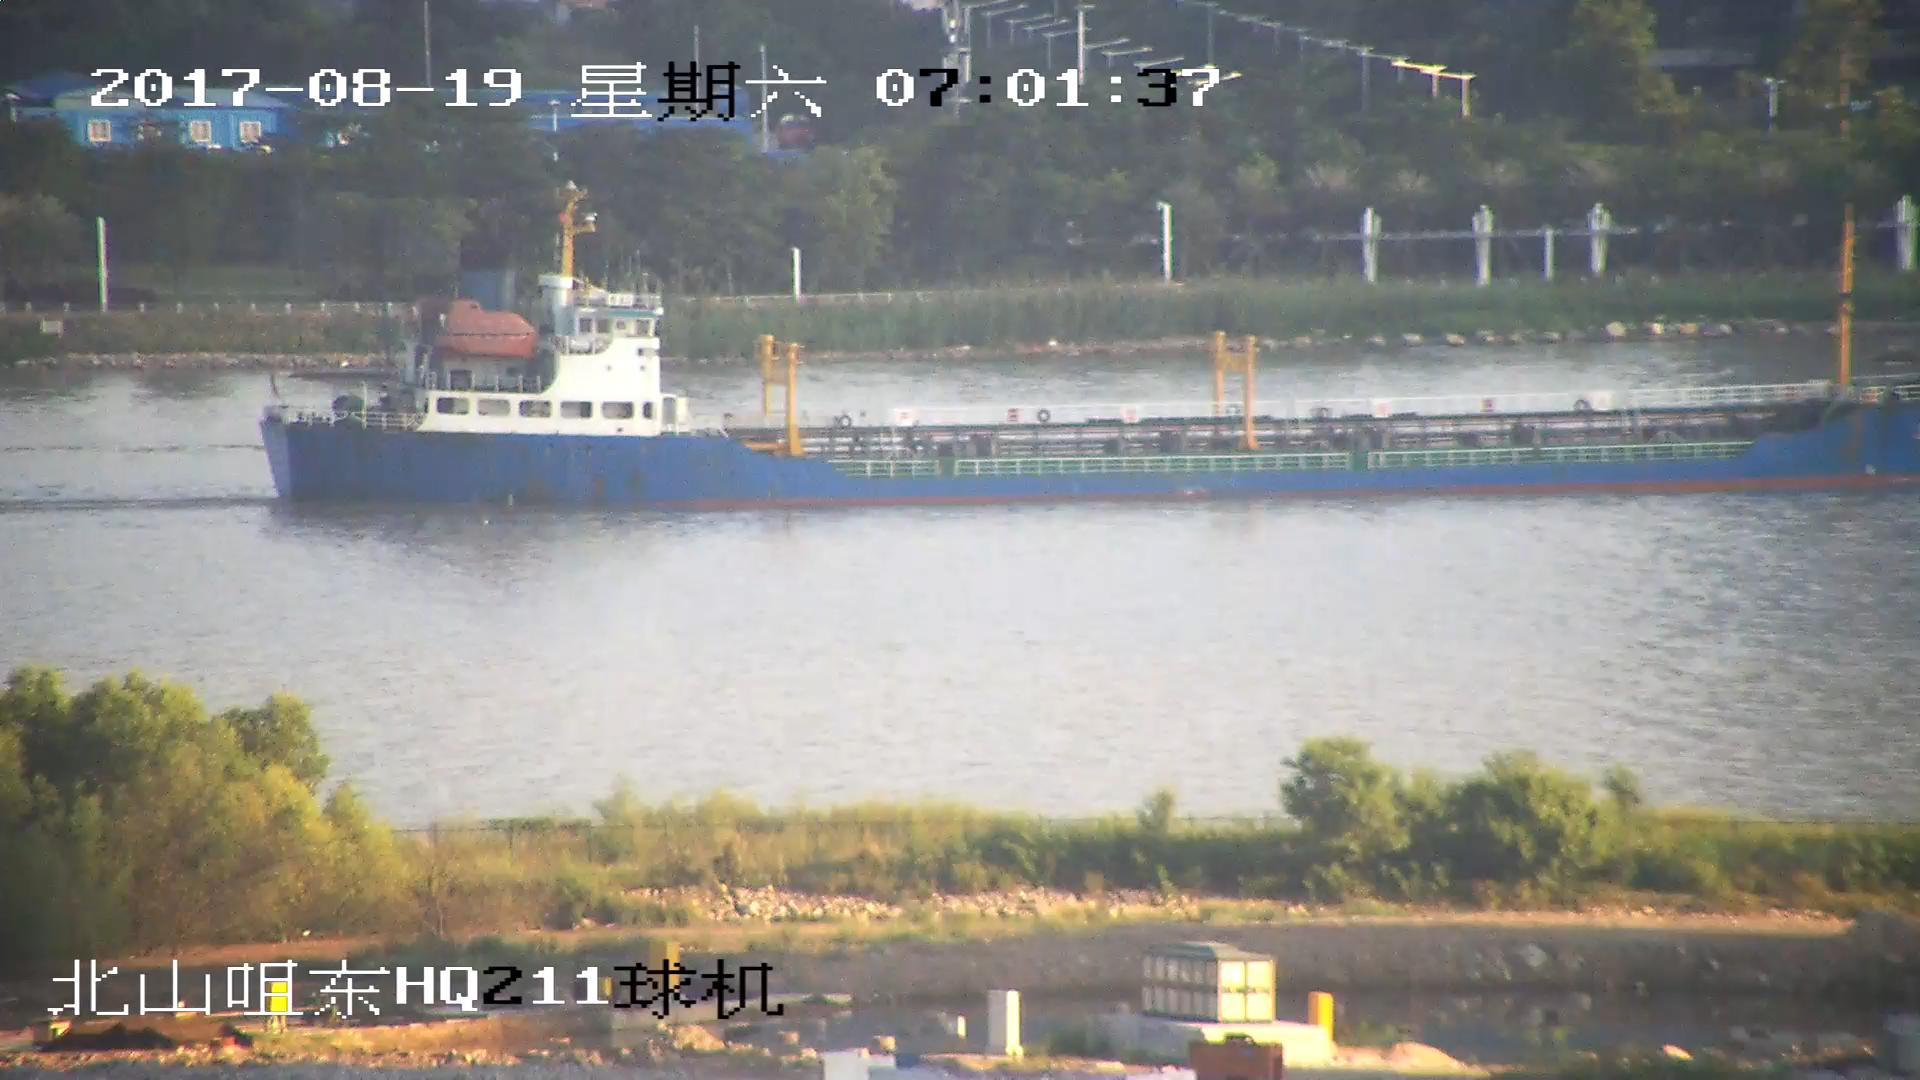general cargo ship: (249, 204, 1920, 502)
